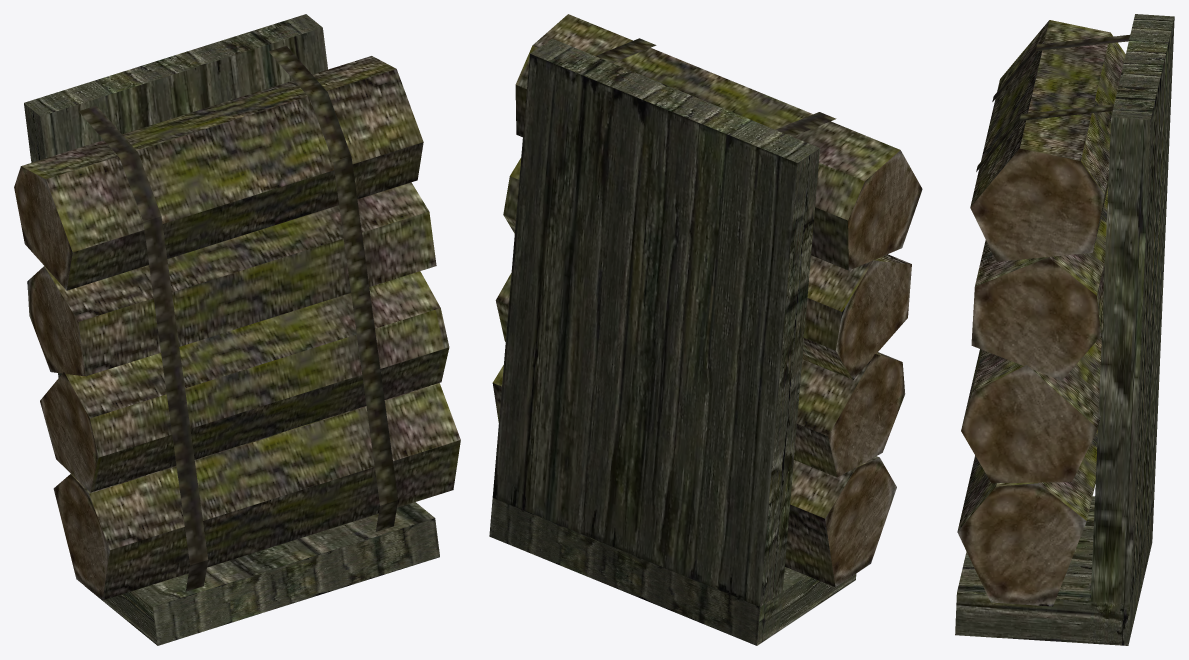
The model's file is STATIC_PLECAKDREWNO.glb.
3 views of the same model, side by side, from view 1: azimuth 30°, elevation 25°; view 2: azimuth 150°, elevation 25°; view 3: azimuth 270°, elevation 25° (orthographic). The views are drawn at different scales.
Visible parts, largest first — view 1: STATIC_PLECAKDREWNO; view 2: STATIC_PLECAKDREWNO; view 3: STATIC_PLECAKDREWNO.
Boxes of the visible parts, x1=… form: STATIC_PLECAKDREWNO: x1=14, y1=14, x2=460, y2=645; STATIC_PLECAKDREWNO: x1=489, y1=14, x2=922, y2=645; STATIC_PLECAKDREWNO: x1=955, y1=14, x2=1174, y2=645.
Size of the model in its own units: 0.4678 by 0.6067 by 0.2299.
4 materials, 4 textured.
